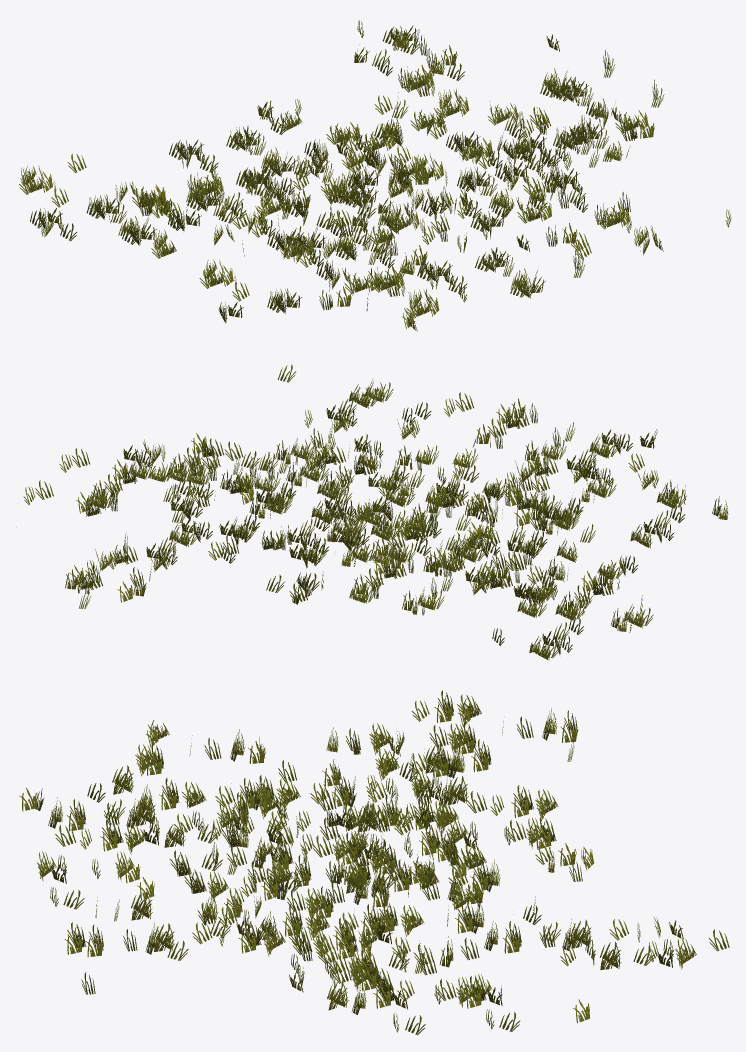
File: Grass_Short_Group_01.fbx
3 renders of one model, top to bottom at view 1: azimuth 30°, elevation 25°; view 2: azimuth 150°, elevation 25°; view 3: azimuth 270°, elevation 25°, orthographic. The views are drawn at different scales.
Parts seen in each view (by area): view 1: polySurface3; view 2: polySurface3; view 3: polySurface3.
Part boxes in pixels (x1,y1,x2,y2): polySurface3: (19, 20, 731, 331); polySurface3: (23, 364, 728, 660); polySurface3: (19, 690, 729, 1035).
Bounding box in the file's own units: 75.77 × 2.92 × 69.64.
1 material, 1 textured.
